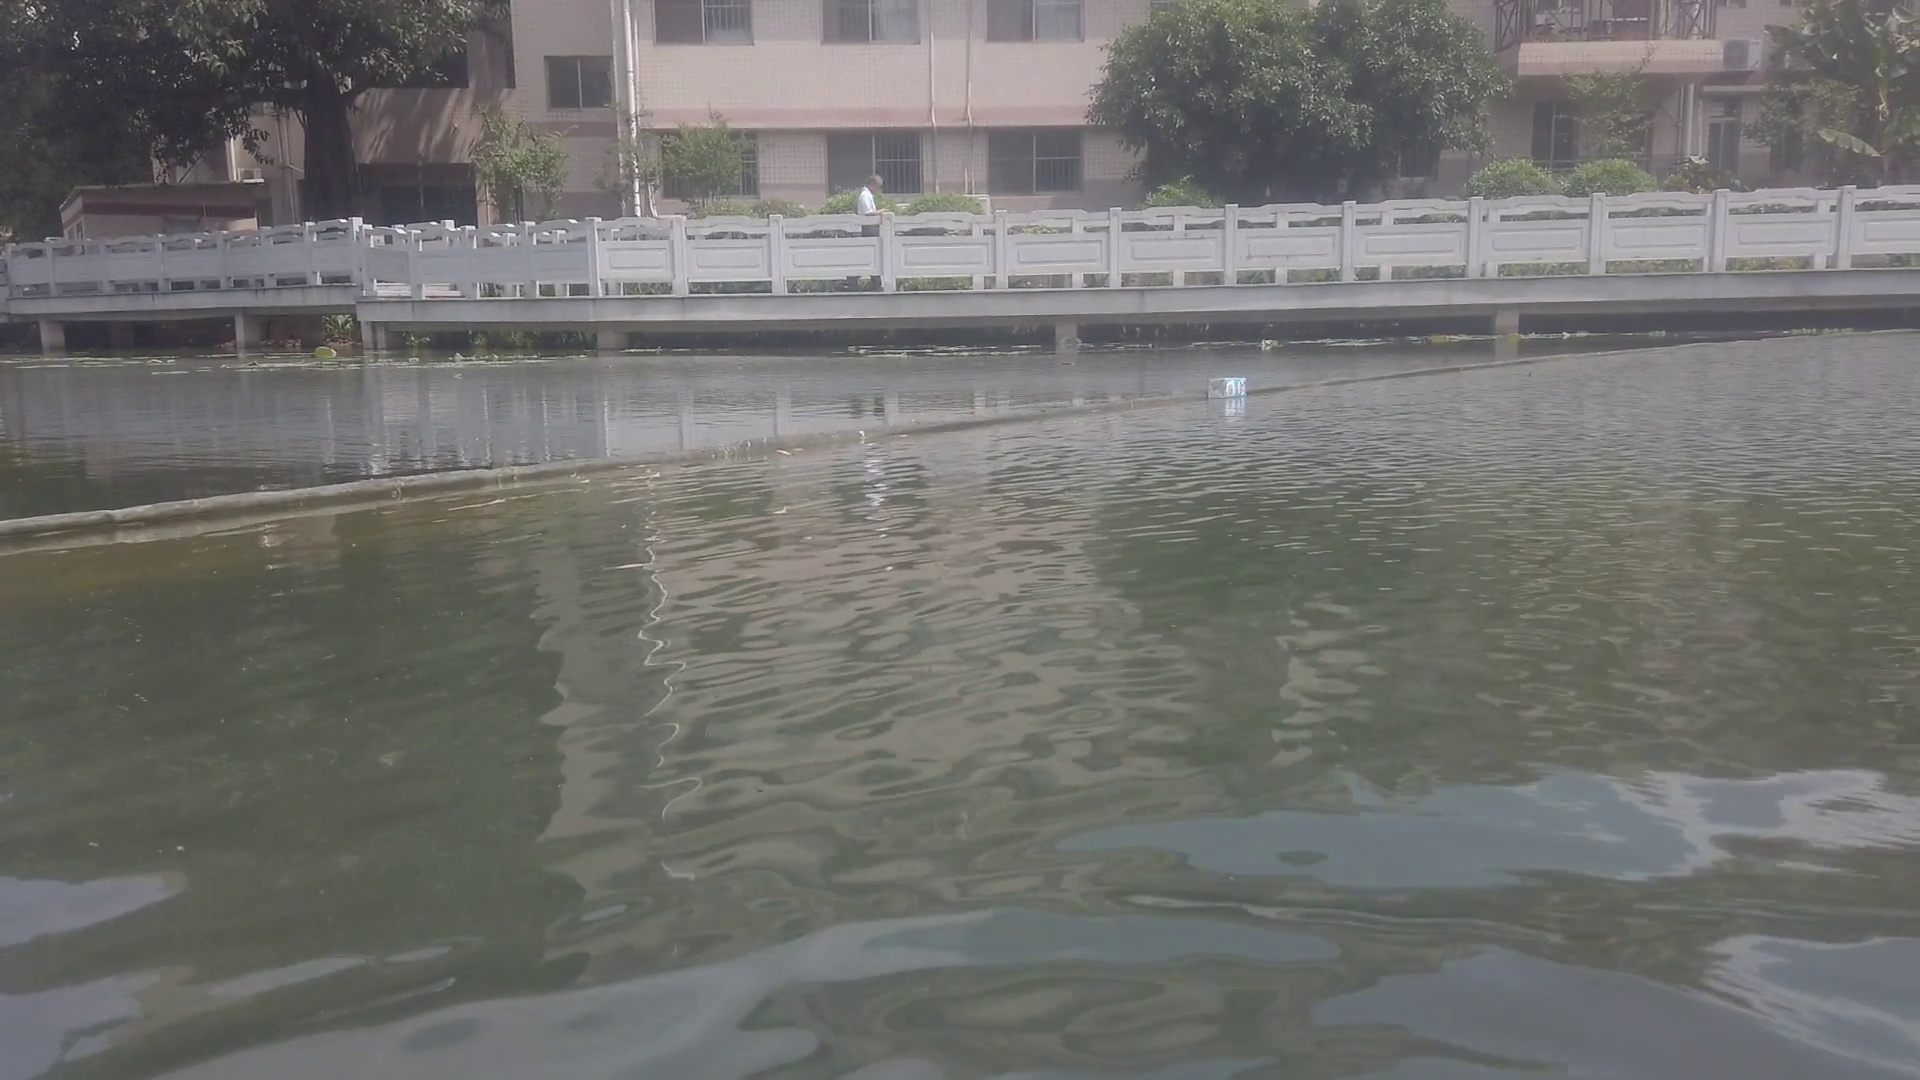carton: (1203, 375, 1254, 404)
